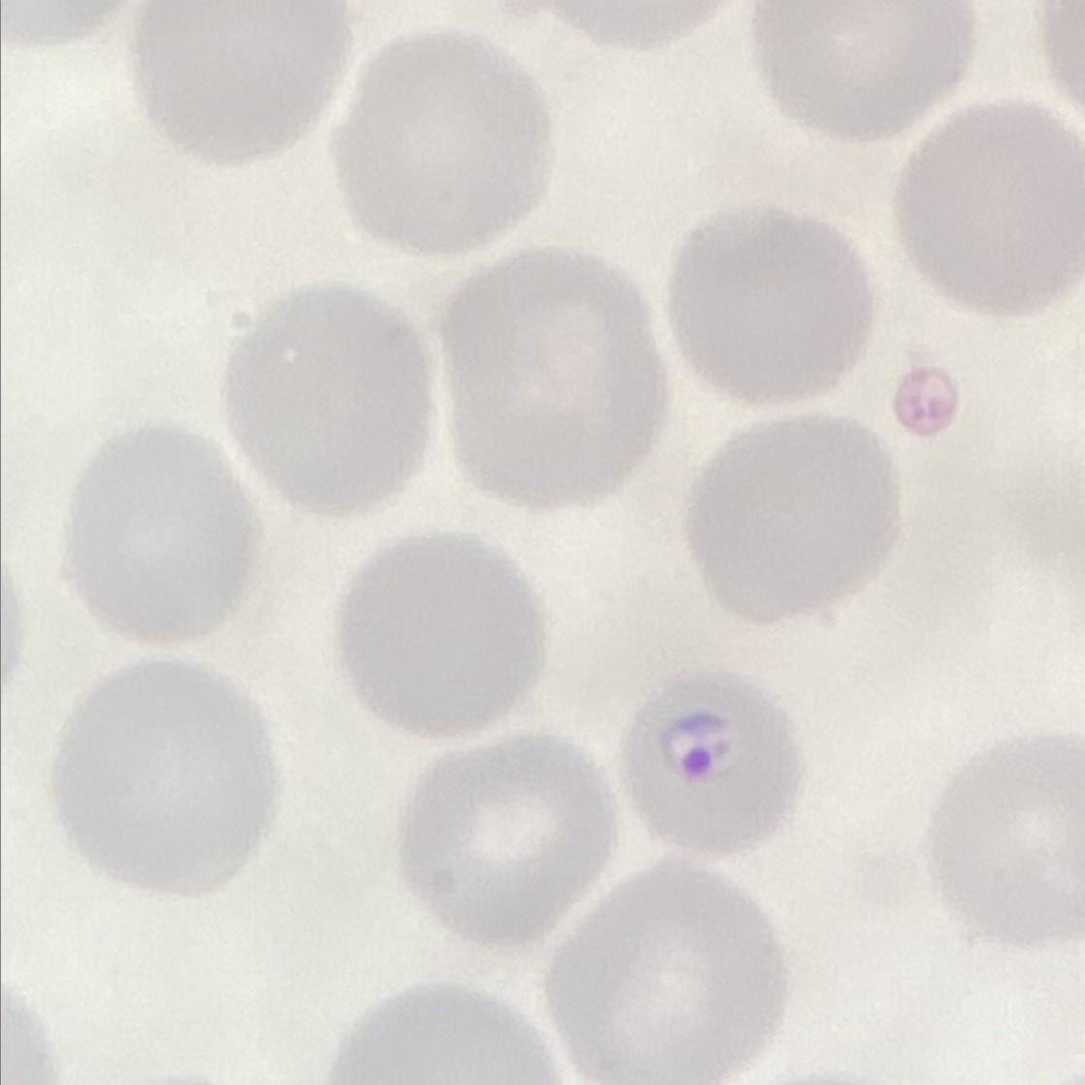Infected: (621, 660, 802, 862)
Uninfected: (446, 240, 661, 517), (58, 657, 271, 903), (213, 279, 435, 514), (540, 867, 771, 1085), (398, 735, 625, 954), (330, 33, 549, 258), (688, 408, 905, 627), (58, 428, 263, 639), (663, 201, 871, 407), (339, 538, 545, 743), (899, 101, 1085, 312), (924, 728, 1085, 963), (133, 0, 347, 167), (756, 0, 967, 139)
